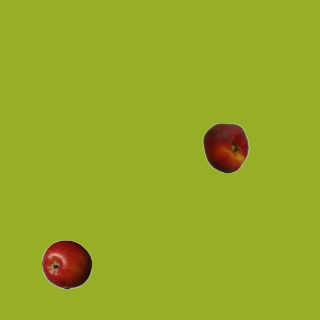Apple Braeburn: (41, 239, 91, 289)
Nectarine Flat: (200, 122, 250, 172)
